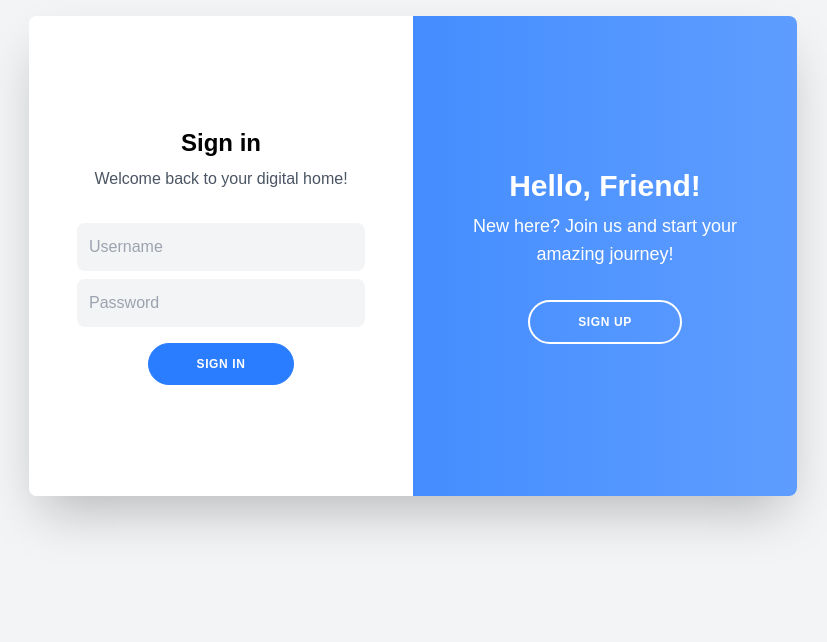
Test case: AuthPage Component › submits registration form successfully
Step 1. Click the button "Sign Up" → [605, 322], box [528,300,682,344]
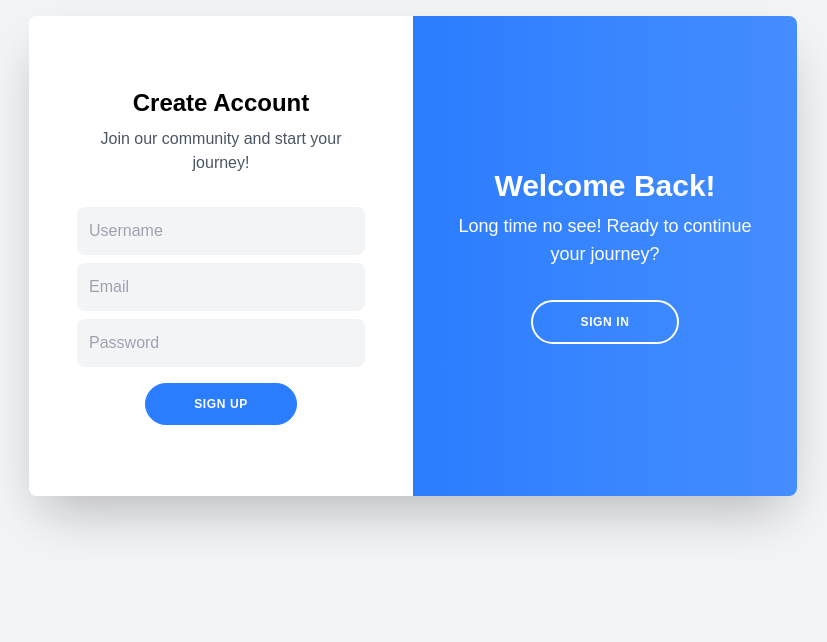
Step 2. Type "newuser" into the field with placeholder "Username" → [221, 231], box [77,207,365,255]
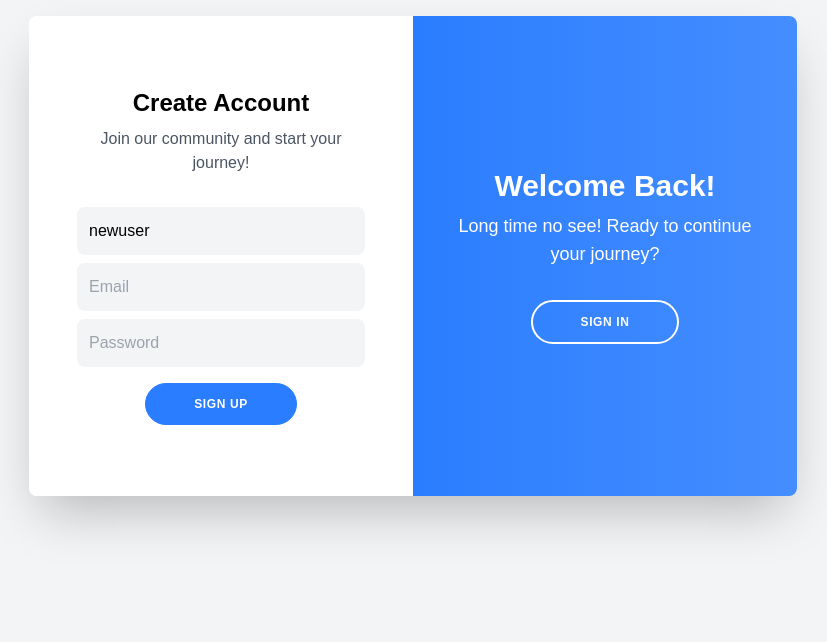
Step 3. Type "newuser@example.com" into the field with placeholder "Email" → [221, 287], box [77,263,365,311]
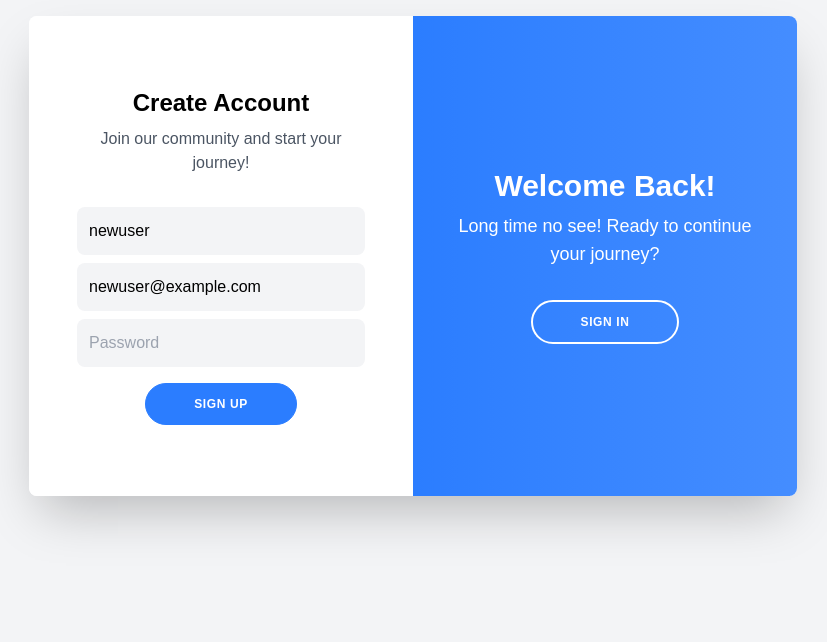
Step 4. Type "password" into the password field with placeholder "Password" → [221, 343], box [77,319,365,367]
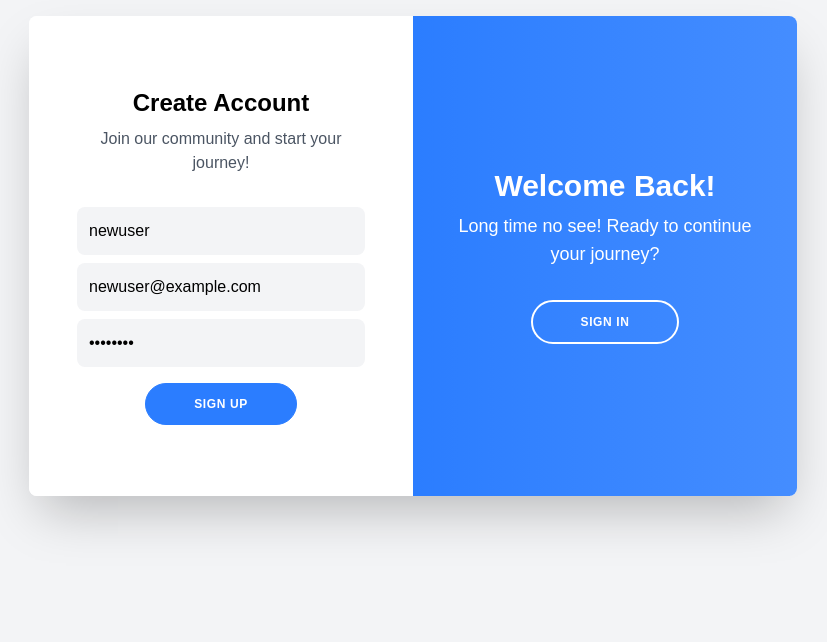
Step 5. Click the button "Sign Up" → [221, 404], box [145,383,297,425]
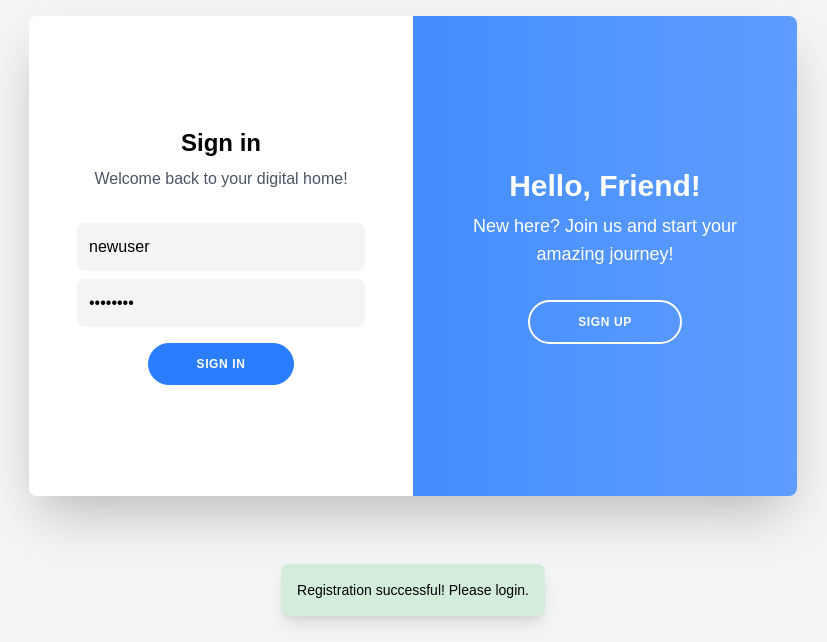
Expected: the text "Registration successful! Please login." is shown, [281,564,545,616]
